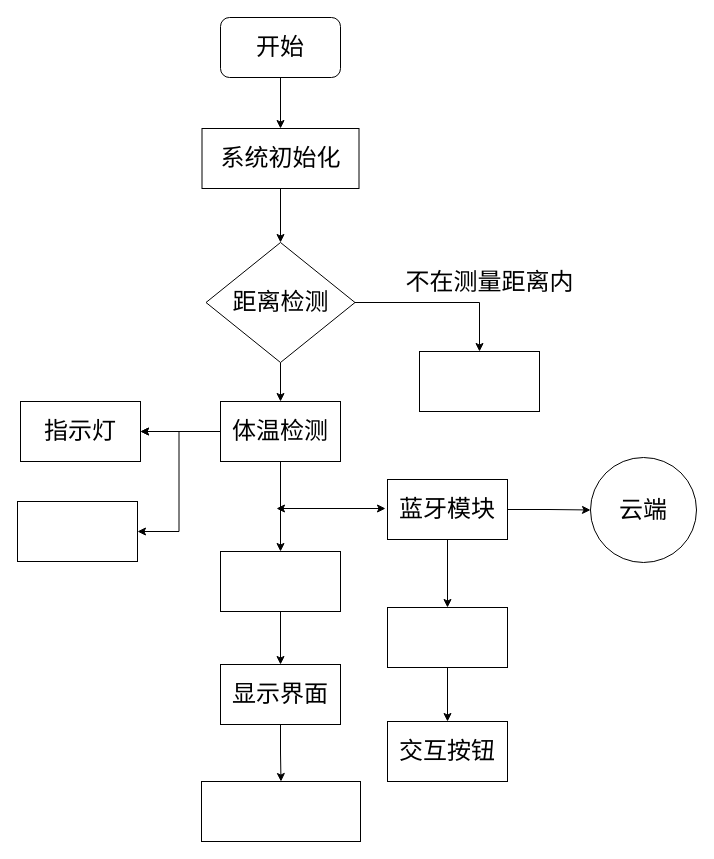
This 714x859 diagram has some shape labels left out. The shapes that lost their labels are listed below. From the top down, each one's centre as x and y in pixels, then its label:
(479,381): 待机状态
(77,531): 语音播报
(280,581): 数据存储
(447,637): 上机位
(280,811): 下一次测量
